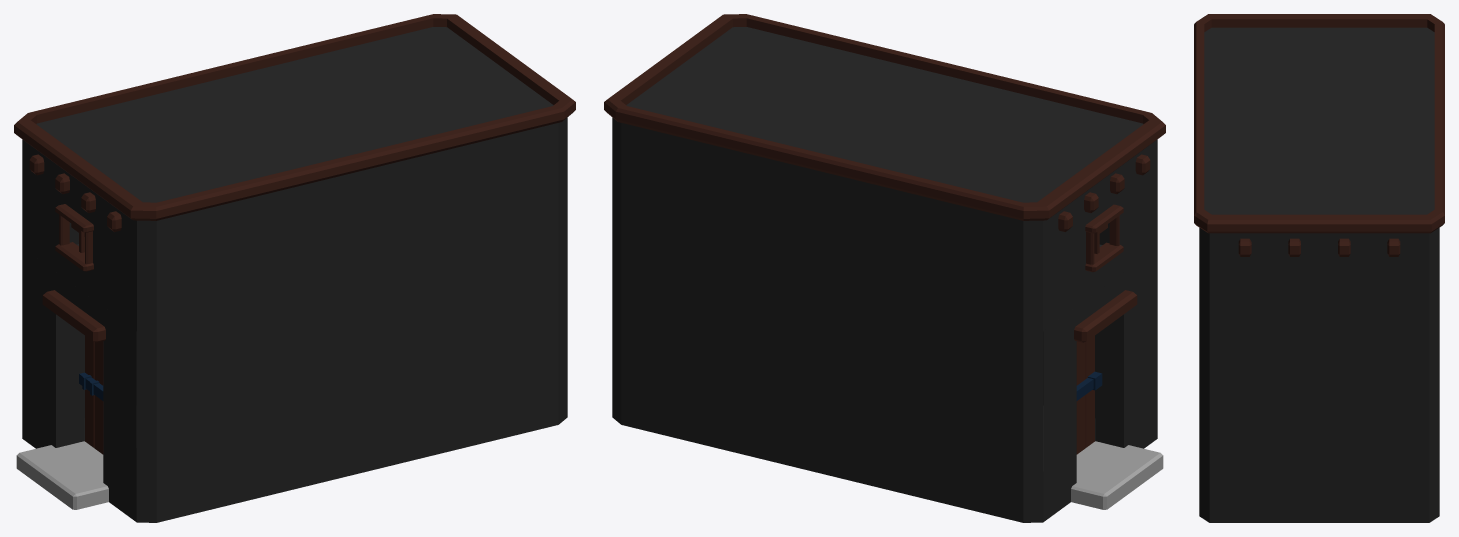
File: civilian_house_39_f.FBX
3 renders of one model, left to right at view 1: azimuth 30°, elevation 25°; view 2: azimuth 150°, elevation 25°; view 3: azimuth 270°, elevation 25°, orthographic. The views are drawn at different scales.
Visible parts, largest first — view 1: civilian_house_39_f; view 2: civilian_house_39_f; view 3: civilian_house_39_f.
Boxes of the visible parts, x1=… form: civilian_house_39_f: x1=14, y1=14, x2=575, y2=522; civilian_house_39_f: x1=604, y1=14, x2=1165, y2=522; civilian_house_39_f: x1=1194, y1=14, x2=1444, y2=522.
Bounding box in the file's own units: 661 × 423 × 315.
